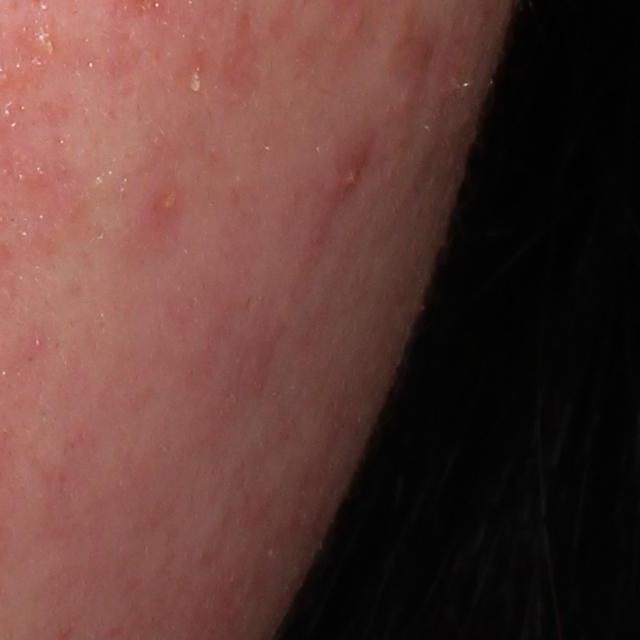pustule: (28, 27, 63, 60)
